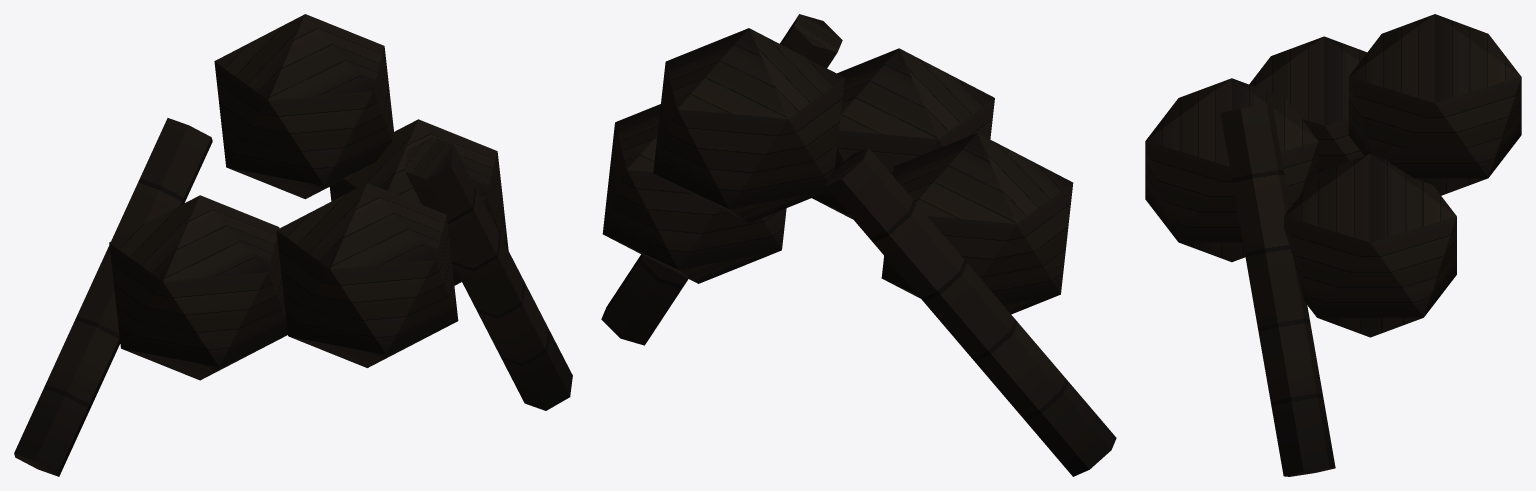
Rendered from bone_pile.gltf.
3 views of the same model, side by side, from view 1: azimuth 30°, elevation 25°; view 2: azimuth 150°, elevation 25°; view 3: azimuth 270°, elevation 25° (orthographic). The views are drawn at different scales.
Visible parts, largest first — view 1: bone_pile; view 2: bone_pile; view 3: bone_pile.
Part boxes in pixels (x1,y1,x2,y2): bone_pile: (14,14,572,476); bone_pile: (601,14,1116,476); bone_pile: (1145,14,1521,476).
Bounding box in the file's own units: 0.6449 × 0.4562 × 0.4071.
Materials: 1 (1 with a texture image).
